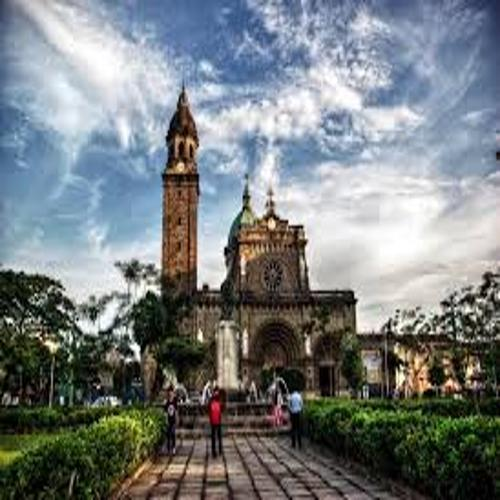Manila Cathedral Church: (112, 61, 372, 403)
